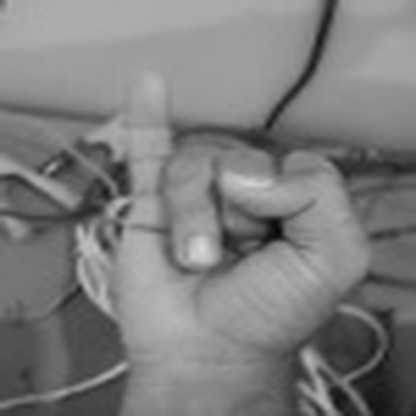i: (109, 67, 377, 375)
